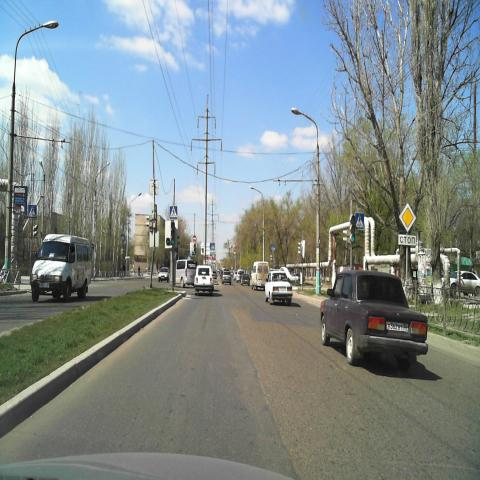6_16: (398, 234, 416, 246)
